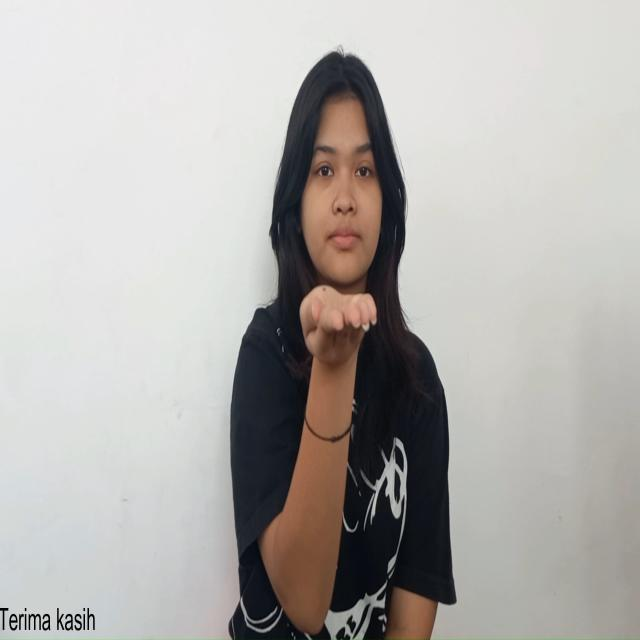Terima kasih -BISINDO-: (297, 278, 381, 376)
